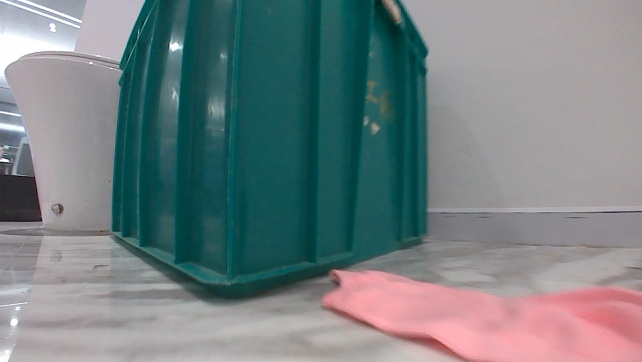socks: (317, 262, 640, 360)
toilet: (0, 45, 121, 235)
